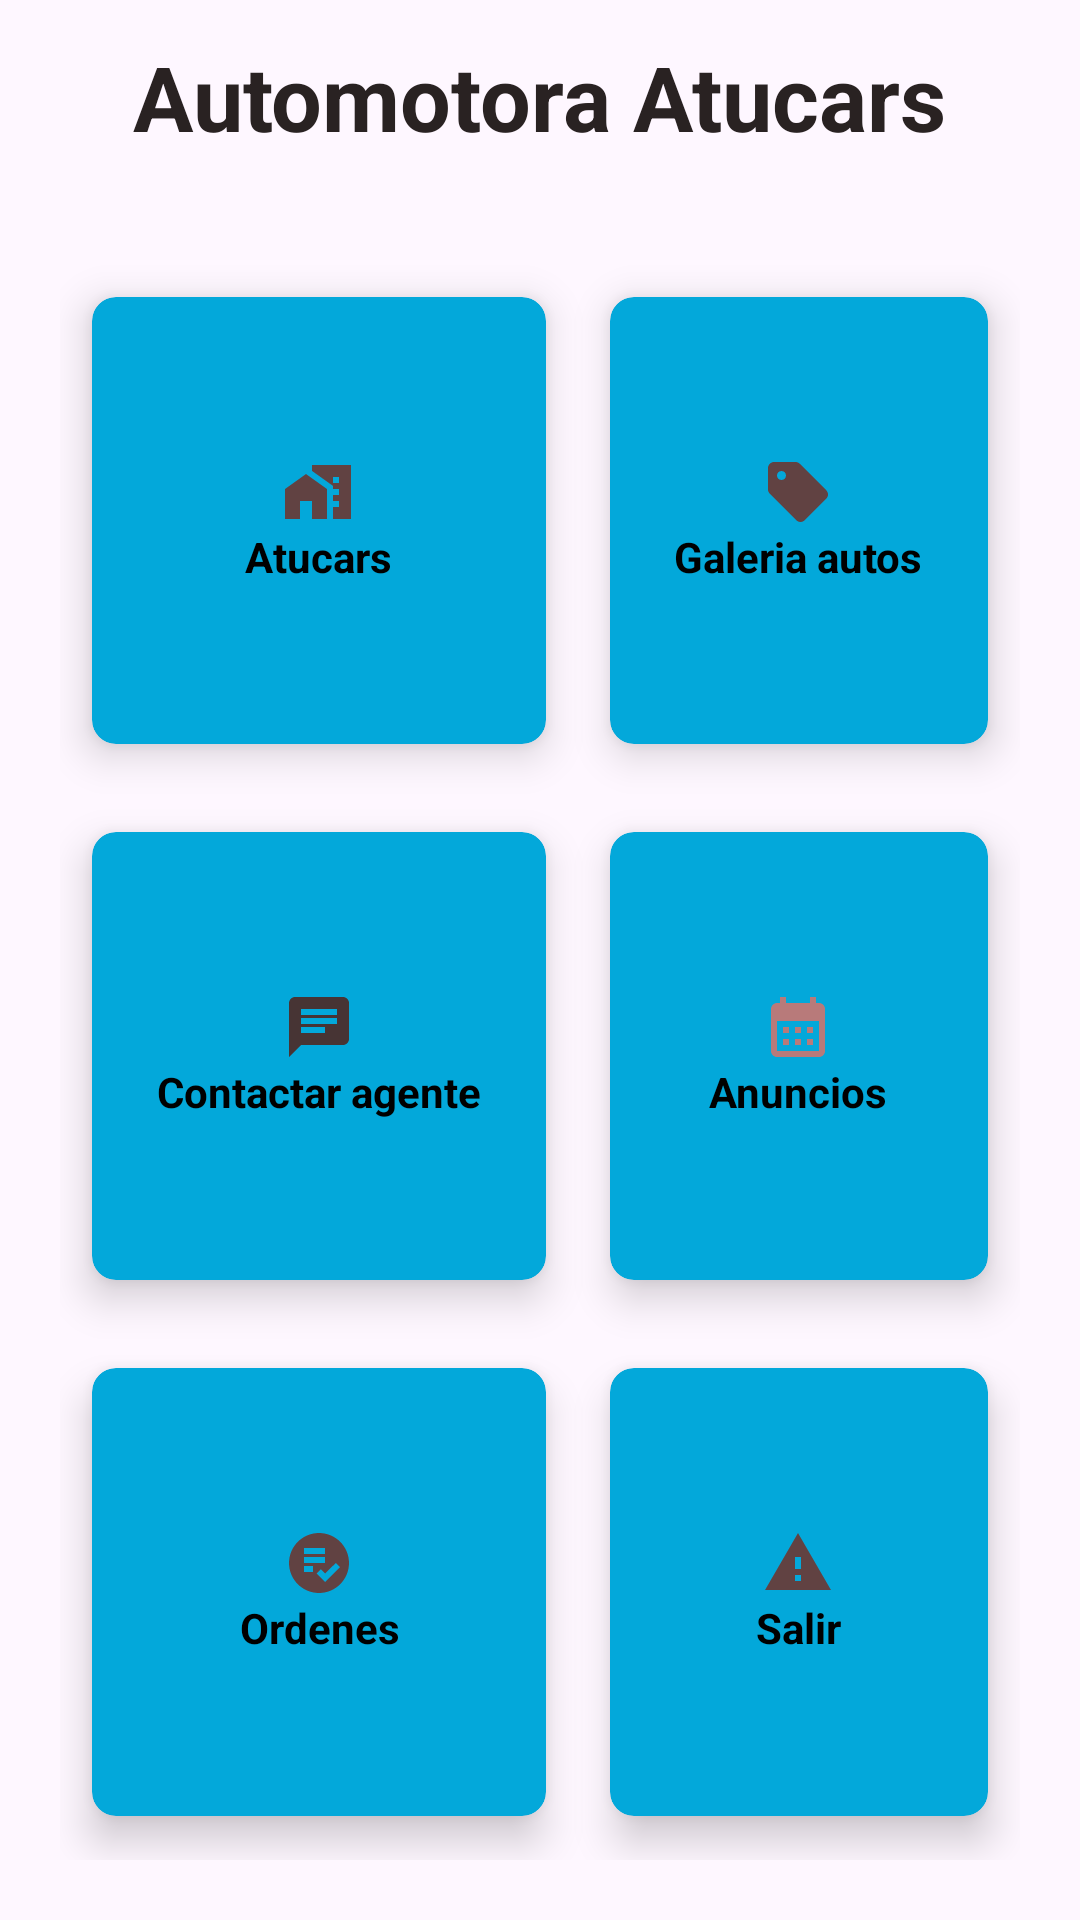

Where icons sit on this 1080px×1920px app screen, as (x1, y1, x2, y2):
calendar month: (771, 997, 825, 1057)
casita: (285, 465, 351, 519)
chat: (289, 997, 349, 1057)
comprar: (768, 462, 828, 522)
